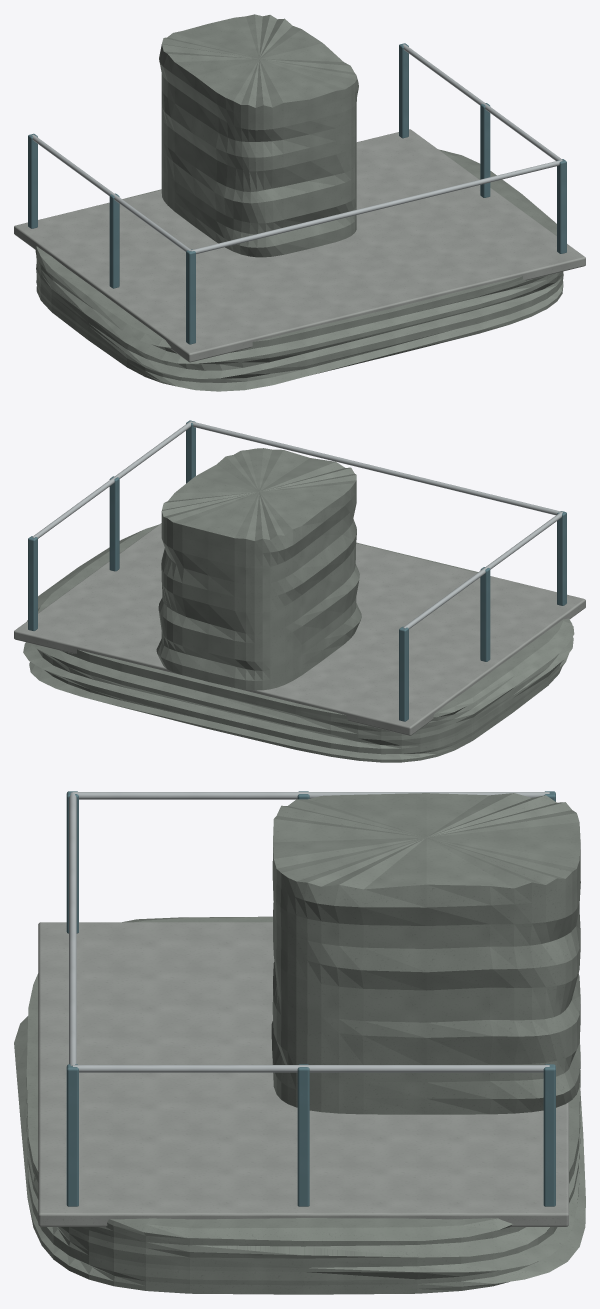
Rendered from gorgehold-survivor-gallery-and-operations-rock-cut-hai-03214137__32873.glb.
3 views of the same model, one above another, from view 1: azimuth 30°, elevation 25°; view 2: azimuth 150°, elevation 25°; view 3: azimuth 270°, elevation 25° (orthographic). The views are drawn at different scales.
Visible parts, largest first — view 1: rock-cut-hairpin-trail; view 2: rock-cut-hairpin-trail; view 3: rock-cut-hairpin-trail.
Part boxes in pixels (x1,y1,x2,y2): rock-cut-hairpin-trail: [14, 14, 585, 391]; rock-cut-hairpin-trail: [14, 420, 585, 762]; rock-cut-hairpin-trail: [14, 791, 585, 1294].
Size of the model in its own units: 4.98 by 2.16 by 3.72.
Materials: 4 (4 with a texture image).
